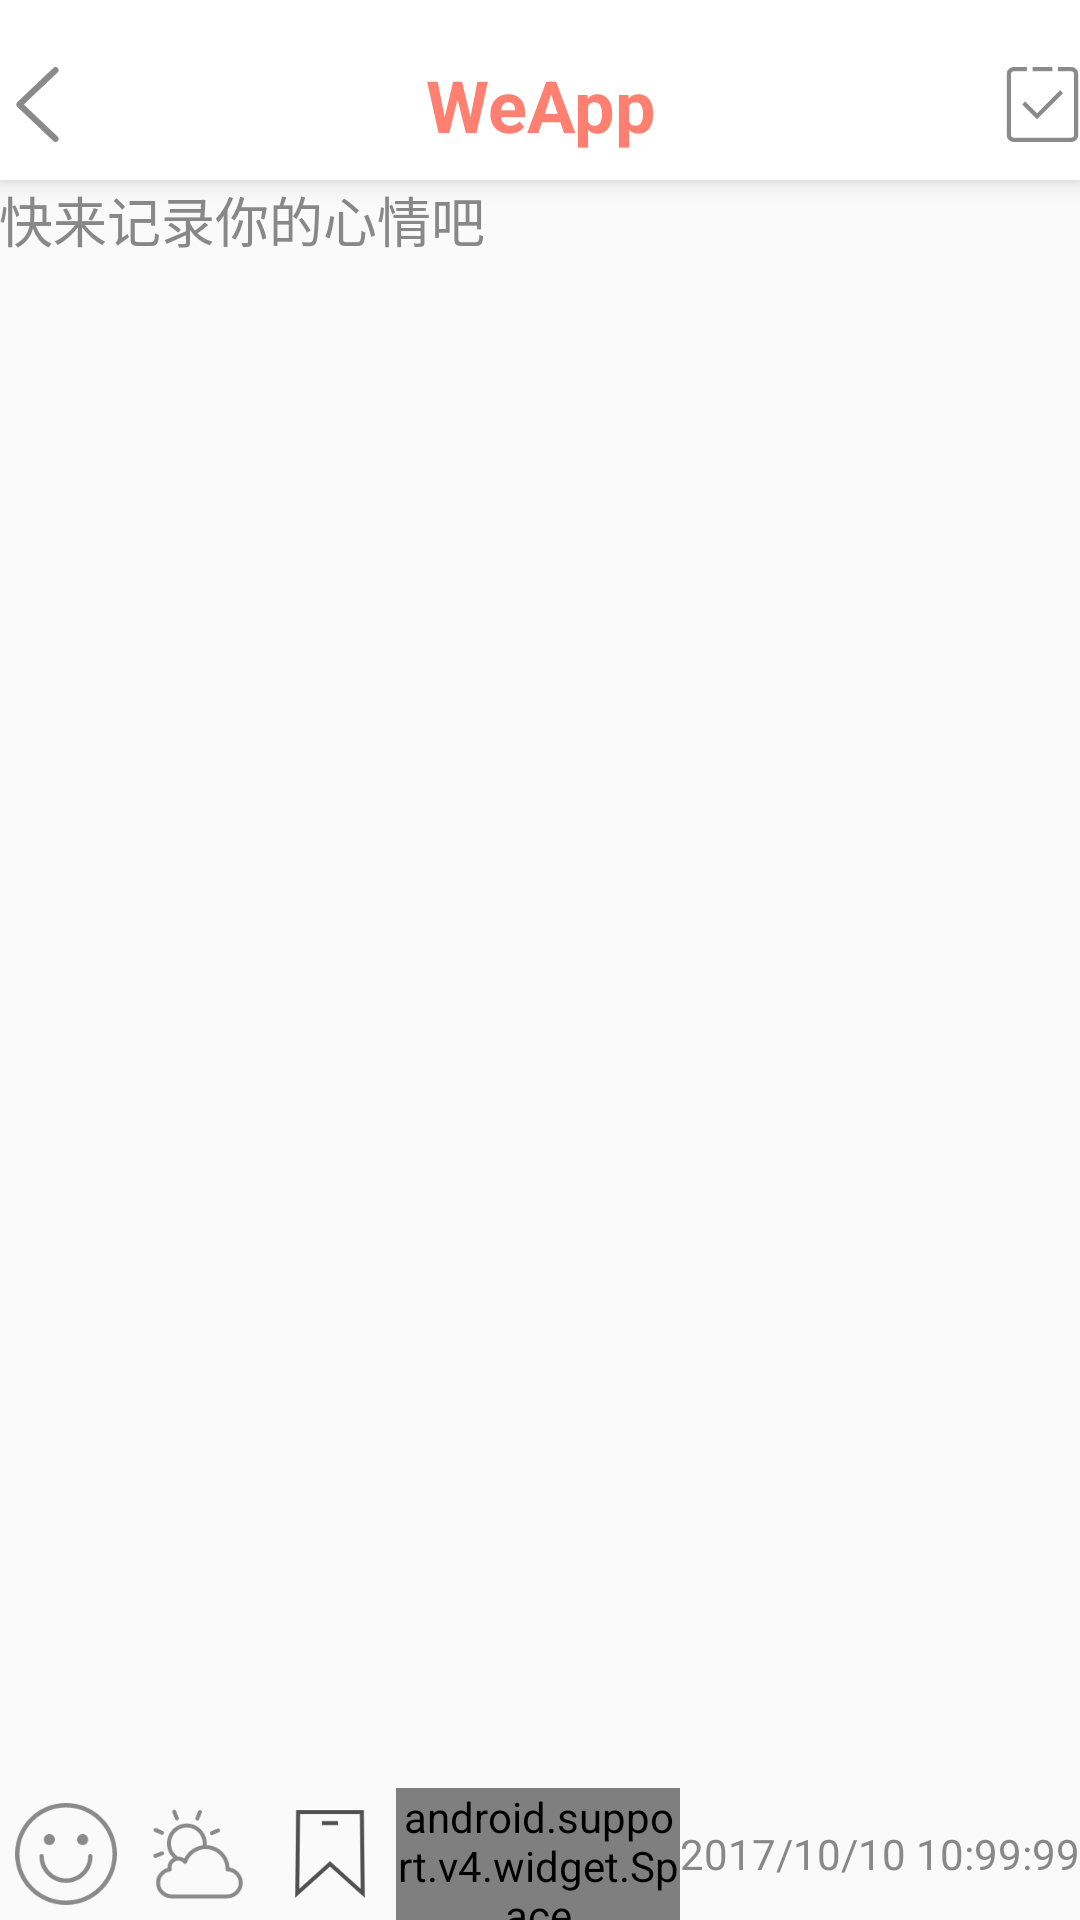

Screen size 1080x1920. Icon name, then its center in pixels as (x,y):
arrow: (37,104)
mood: (66,1854)
submit: (1042,104)
tag: (330,1854)
weather: (198,1854)
